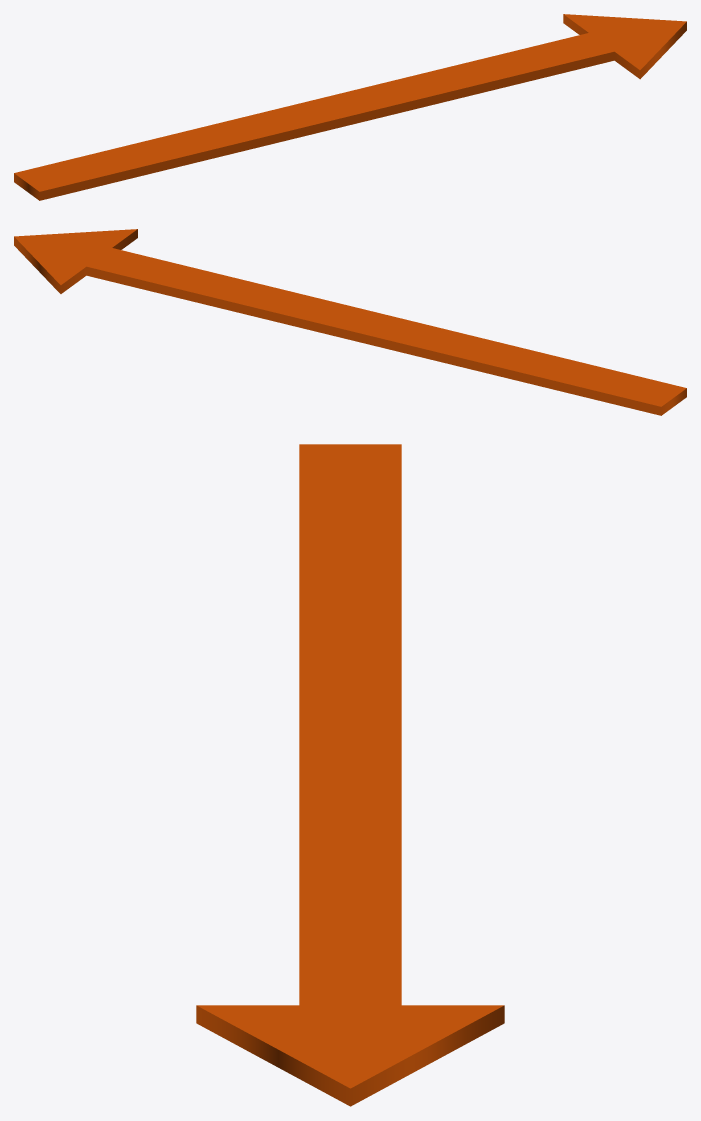
File: ArrowRotate.glb
The picture shows the model from 3 angles, top to bottom: view 1: azimuth 30°, elevation 25°; view 2: azimuth 150°, elevation 25°; view 3: azimuth 270°, elevation 25°; orthographic projection. The views are drawn at different scales.
Visible parts, largest first — view 1: ArrowRotate; view 2: ArrowRotate; view 3: ArrowRotate.
Boxes of the visible parts, box(x1,y1,x2,y2) form: ArrowRotate: box(14, 14, 686, 200); ArrowRotate: box(14, 229, 686, 415); ArrowRotate: box(196, 444, 504, 1106).
Bounding box in the file's own units: 15.28 × 0.1996 × 3.09.
